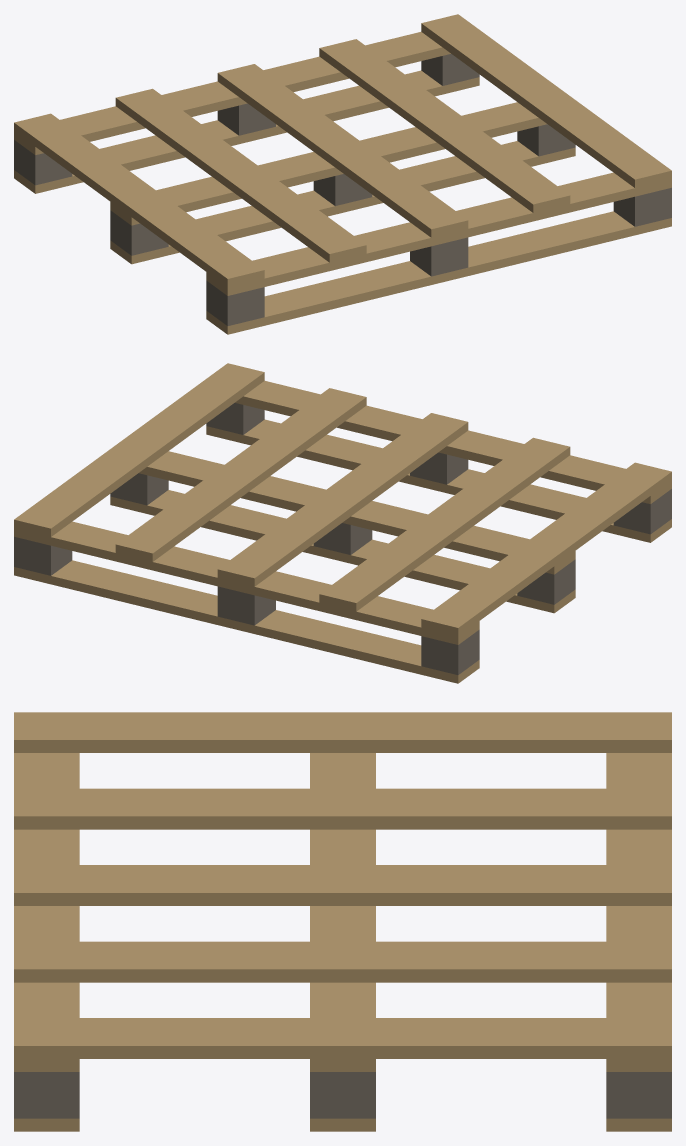
The model's file is pallet.glb.
3 views of the same model, one above another, from view 1: azimuth 30°, elevation 25°; view 2: azimuth 150°, elevation 25°; view 3: azimuth 270°, elevation 25° (orthographic). The views are drawn at different scales.
Visible parts, largest first — view 1: pallet; view 2: pallet; view 3: pallet.
Part boxes in pixels (left/top/right/bottom): pallet: left=14, top=14, right=671, bottom=334; pallet: left=14, top=363, right=671, bottom=683; pallet: left=14, top=712, right=671, bottom=1131.
Size of the model in its own units: 1.2 by 0.144 by 1.
1 material, 1 textured.
